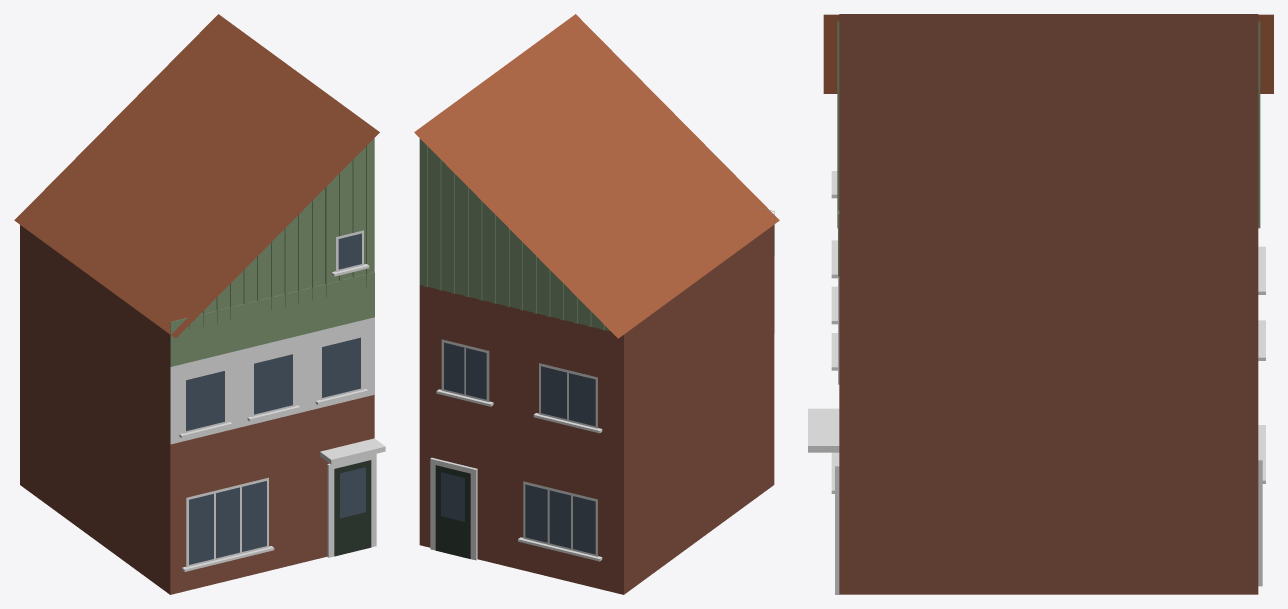
Rendered from nd-bz-green-gable__green__2__gable__short__solid__f1d0.glb.
The picture shows the model from 3 angles, left to right: view 1: azimuth 30°, elevation 25°; view 2: azimuth 150°, elevation 25°; view 3: azimuth 270°, elevation 25°; orthographic projection. The views are drawn at different scales.
Visible parts, largest first — view 1: nd-bz-green-gable__green__2__gable__short__solid__f1d0; view 2: nd-bz-green-gable__green__2__gable__short__solid__f1d0; view 3: nd-bz-green-gable__green__2__gable__short__solid__f1d0.
Part boxes in pixels (left/top/right/bottom): nd-bz-green-gable__green__2__gable__short__solid__f1d0: left=14, top=14, right=385, bottom=594; nd-bz-green-gable__green__2__gable__short__solid__f1d0: left=414, top=14, right=779, bottom=594; nd-bz-green-gable__green__2__gable__short__solid__f1d0: left=808, top=14, right=1273, bottom=594.
Size of the model in its own units: 5.26 by 10.23 by 7.44.
